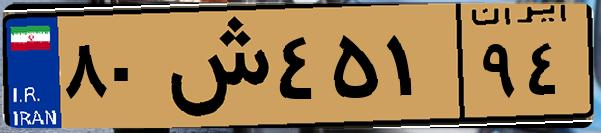0: (110, 28, 158, 98)
1: (385, 28, 445, 110)
4: (270, 28, 330, 110), (525, 38, 570, 115)
5: (330, 28, 385, 110)
8: (57, 26, 110, 100)
9: (475, 38, 525, 113)
ش: (158, 12, 270, 120)
